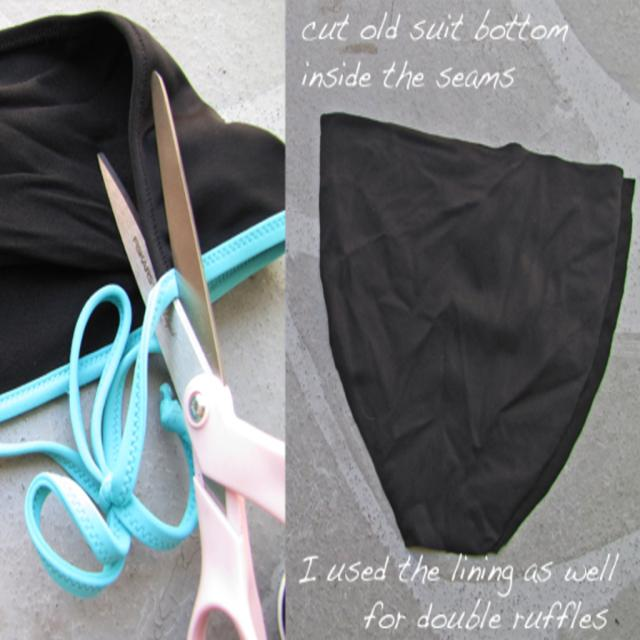scissors: (0, 69, 285, 639)
